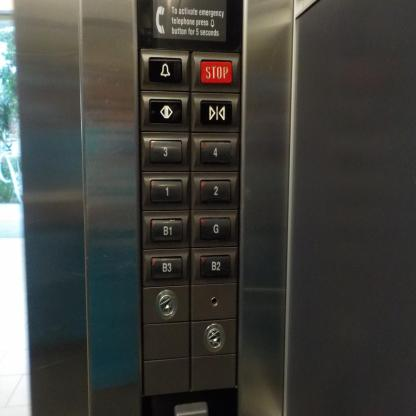1: (150, 179, 183, 203)
2: (200, 179, 231, 202)
3: (149, 139, 182, 164)
4: (200, 140, 232, 164)
B1: (150, 218, 183, 242)
B2: (200, 254, 231, 277)
B3: (150, 256, 183, 280)
G: (199, 217, 231, 240)
alarm: (148, 57, 182, 83)
close: (200, 100, 232, 124)
keyhole: (155, 289, 178, 320), (203, 322, 225, 352)
open: (149, 98, 182, 124)
text_stop: (200, 58, 233, 85)
